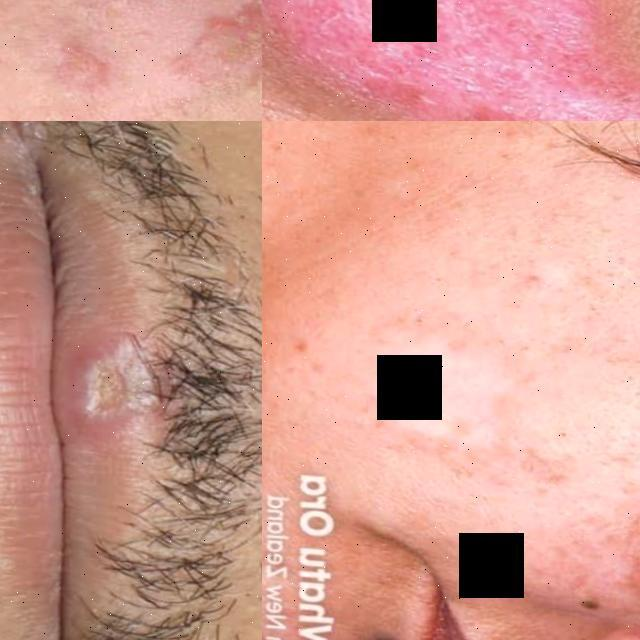lupus-detected: (262, 0, 640, 121), (30, 272, 202, 472), (5, 0, 262, 116), (593, 424, 640, 603), (0, 121, 81, 191)
